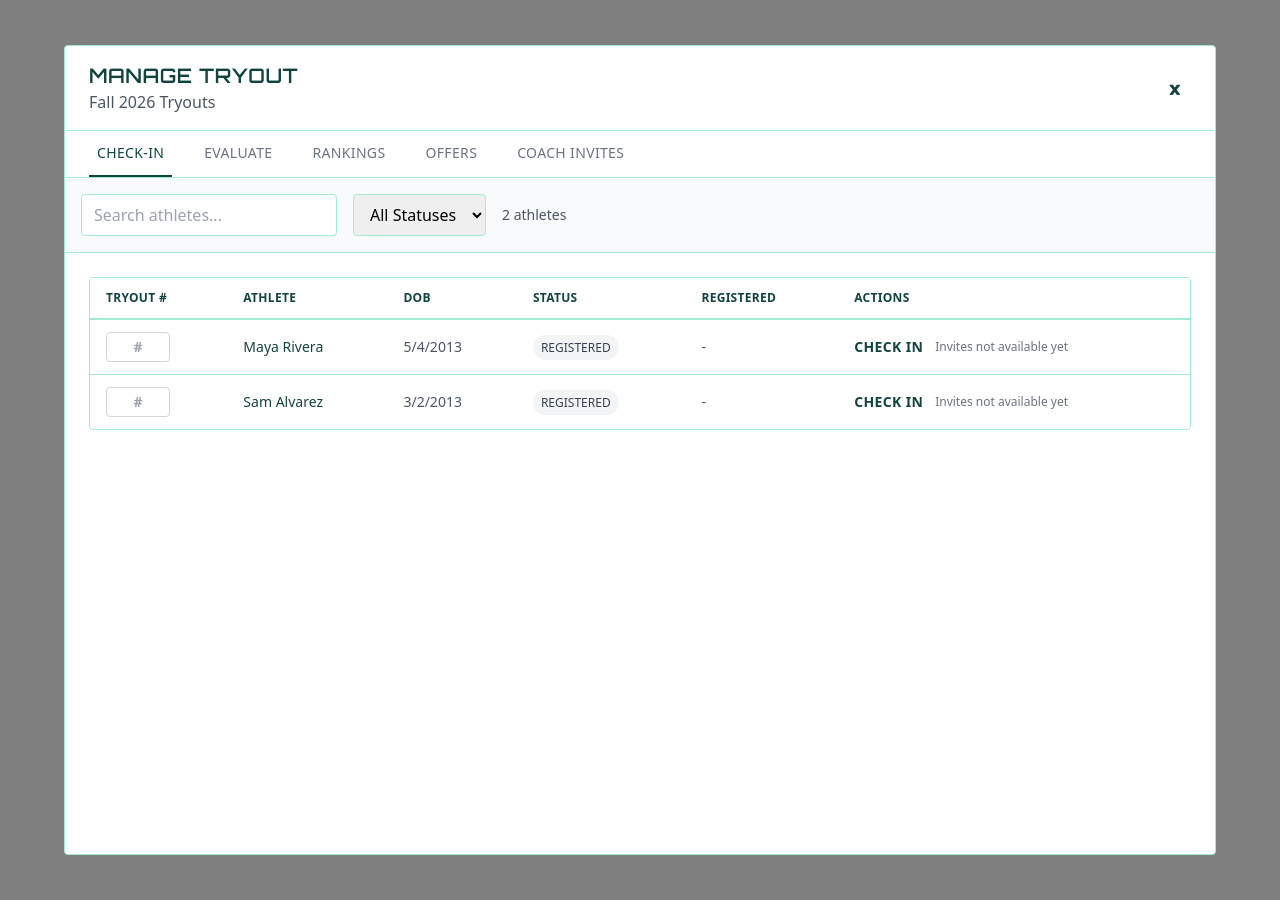
Test case: the director table › degrades to a sentence before migration 087 is applied
This screenshot has width=1280, height=900.
Expected: the text "Maya Rivera" is shown, [243,337,323,356]
Click the button "Coach invites". click: click(571, 154)
box: [509,131,632,177]
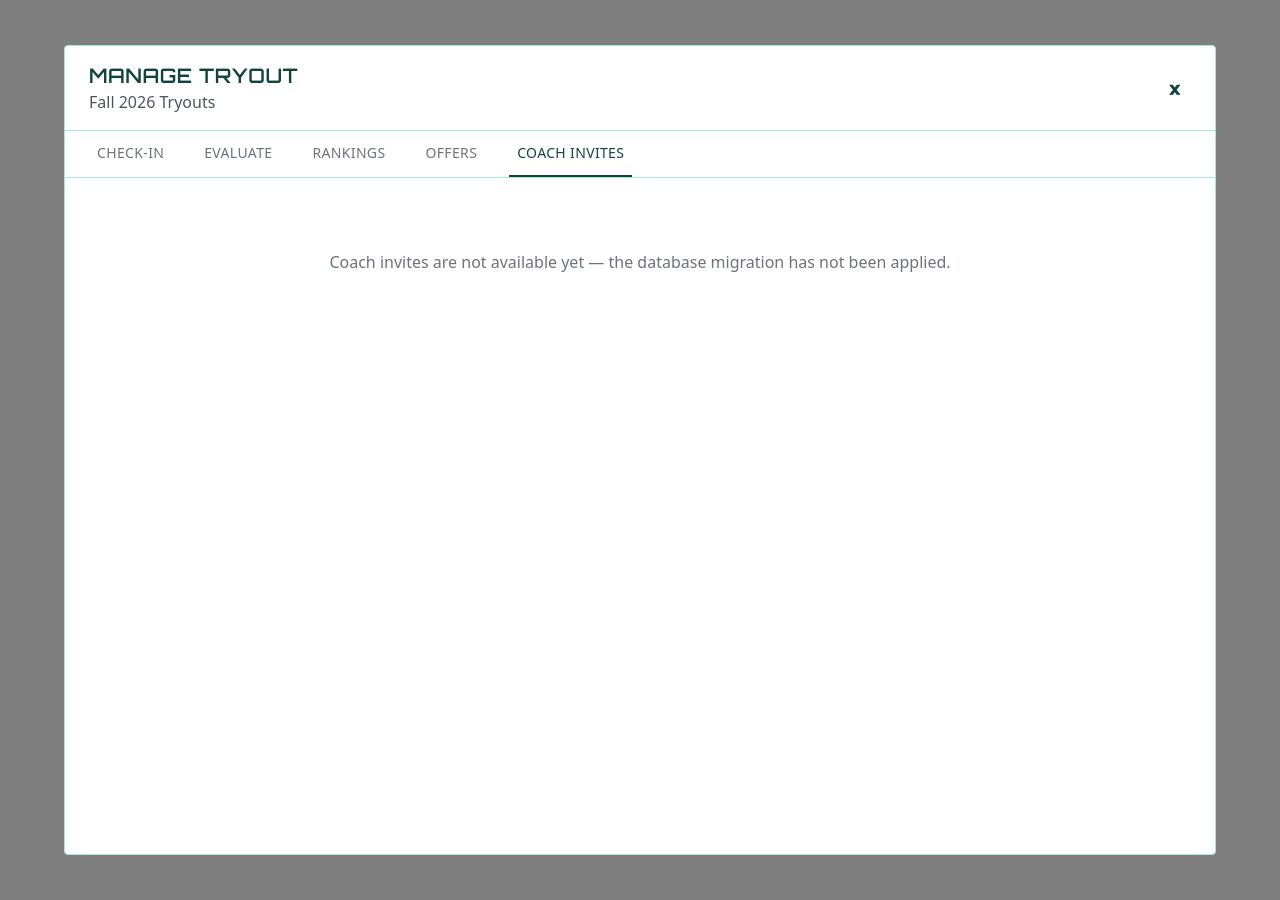
Now the text "Coach invites are not available yet" is shown, box [329,251,951,273]
